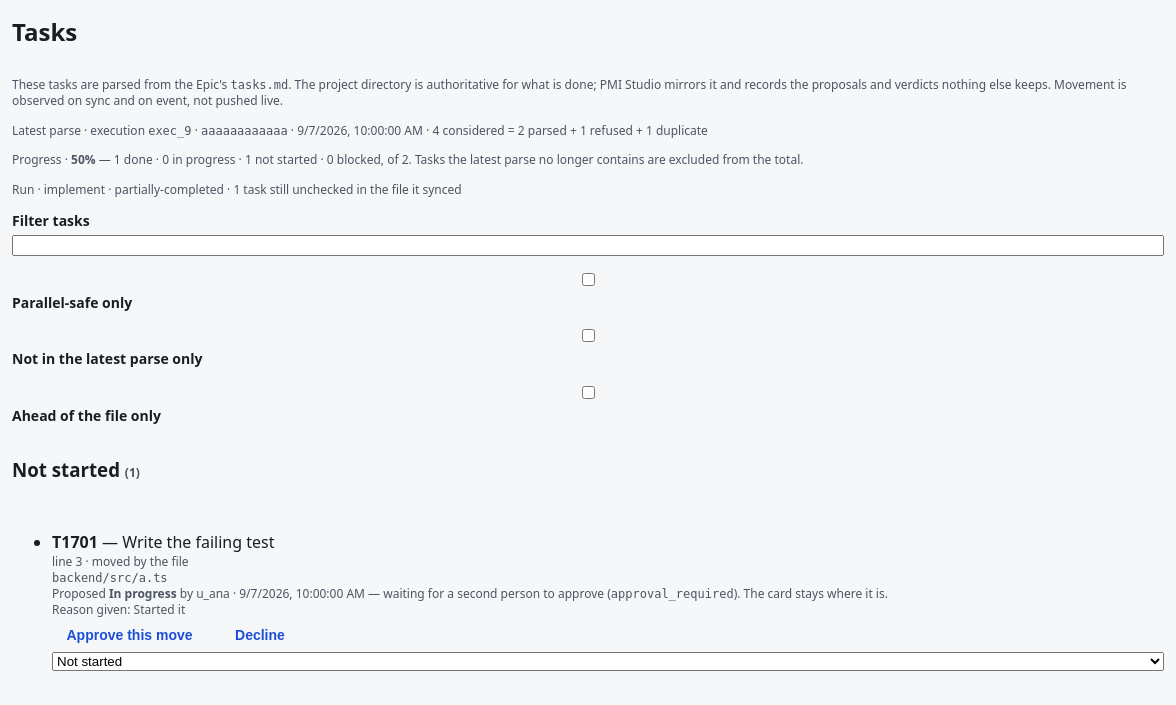
Test: T1792 · answering a waiting proposal (US4 sc. 3) › sends the approval and states the verdict it got back
Check: the message with test id "outstanding-proposal" is shown, box top-left (52, 585), bottom-right (888, 652)
Click the button "Approve this move" at (130, 635), box top-left (52, 618), bottom-right (207, 652)
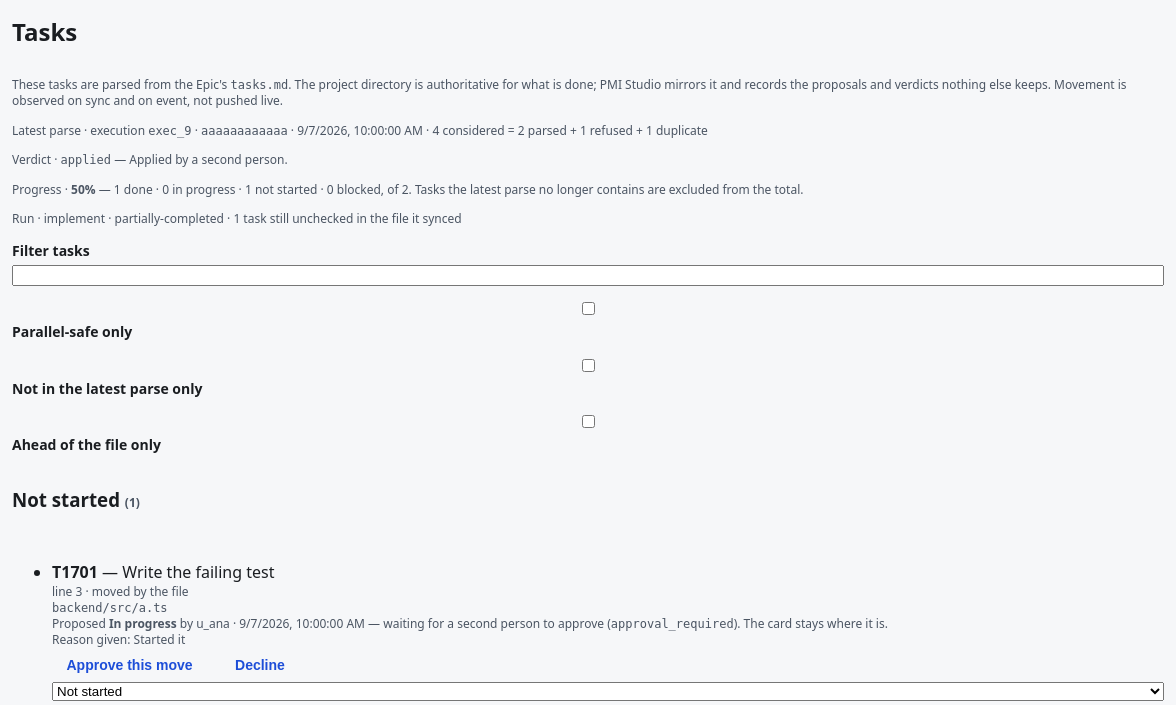
Check: the message with test id "adjudication-verdict" shows "applied", box top-left (60, 153), bottom-right (111, 167)
